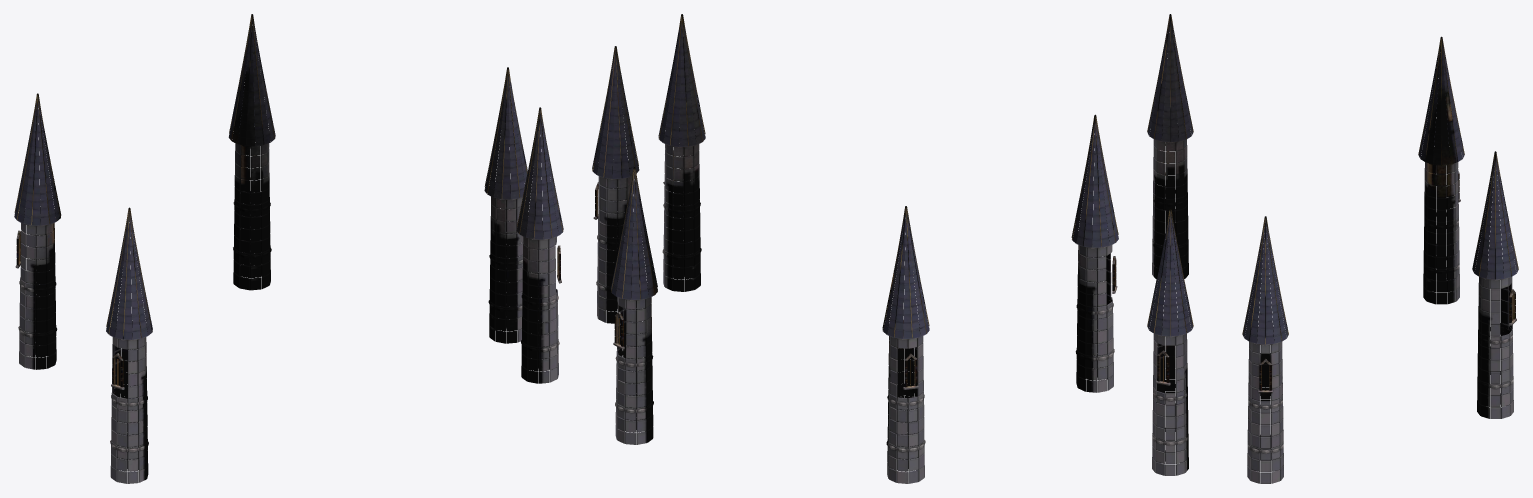
Rendered from wall_turrets_skin.glb.
The picture shows the model from 3 angles, left to right: view 1: azimuth 30°, elevation 25°; view 2: azimuth 150°, elevation 25°; view 3: azimuth 270°, elevation 25°; orthographic projection. The views are drawn at different scales.
Parts seen in each view (by area): view 1: wall_turrets_skin.001; view 2: wall_turrets_skin.001; view 3: wall_turrets_skin.001.
Part boxes in pixels (x1,y1,x2,y2): wall_turrets_skin.001: (14, 14, 563, 483); wall_turrets_skin.001: (592, 14, 1118, 483); wall_turrets_skin.001: (1147, 14, 1518, 483).
Bounding box in the file's own units: 40.46 × 22.11 × 28.63.
Materials: 1 (1 with a texture image).
